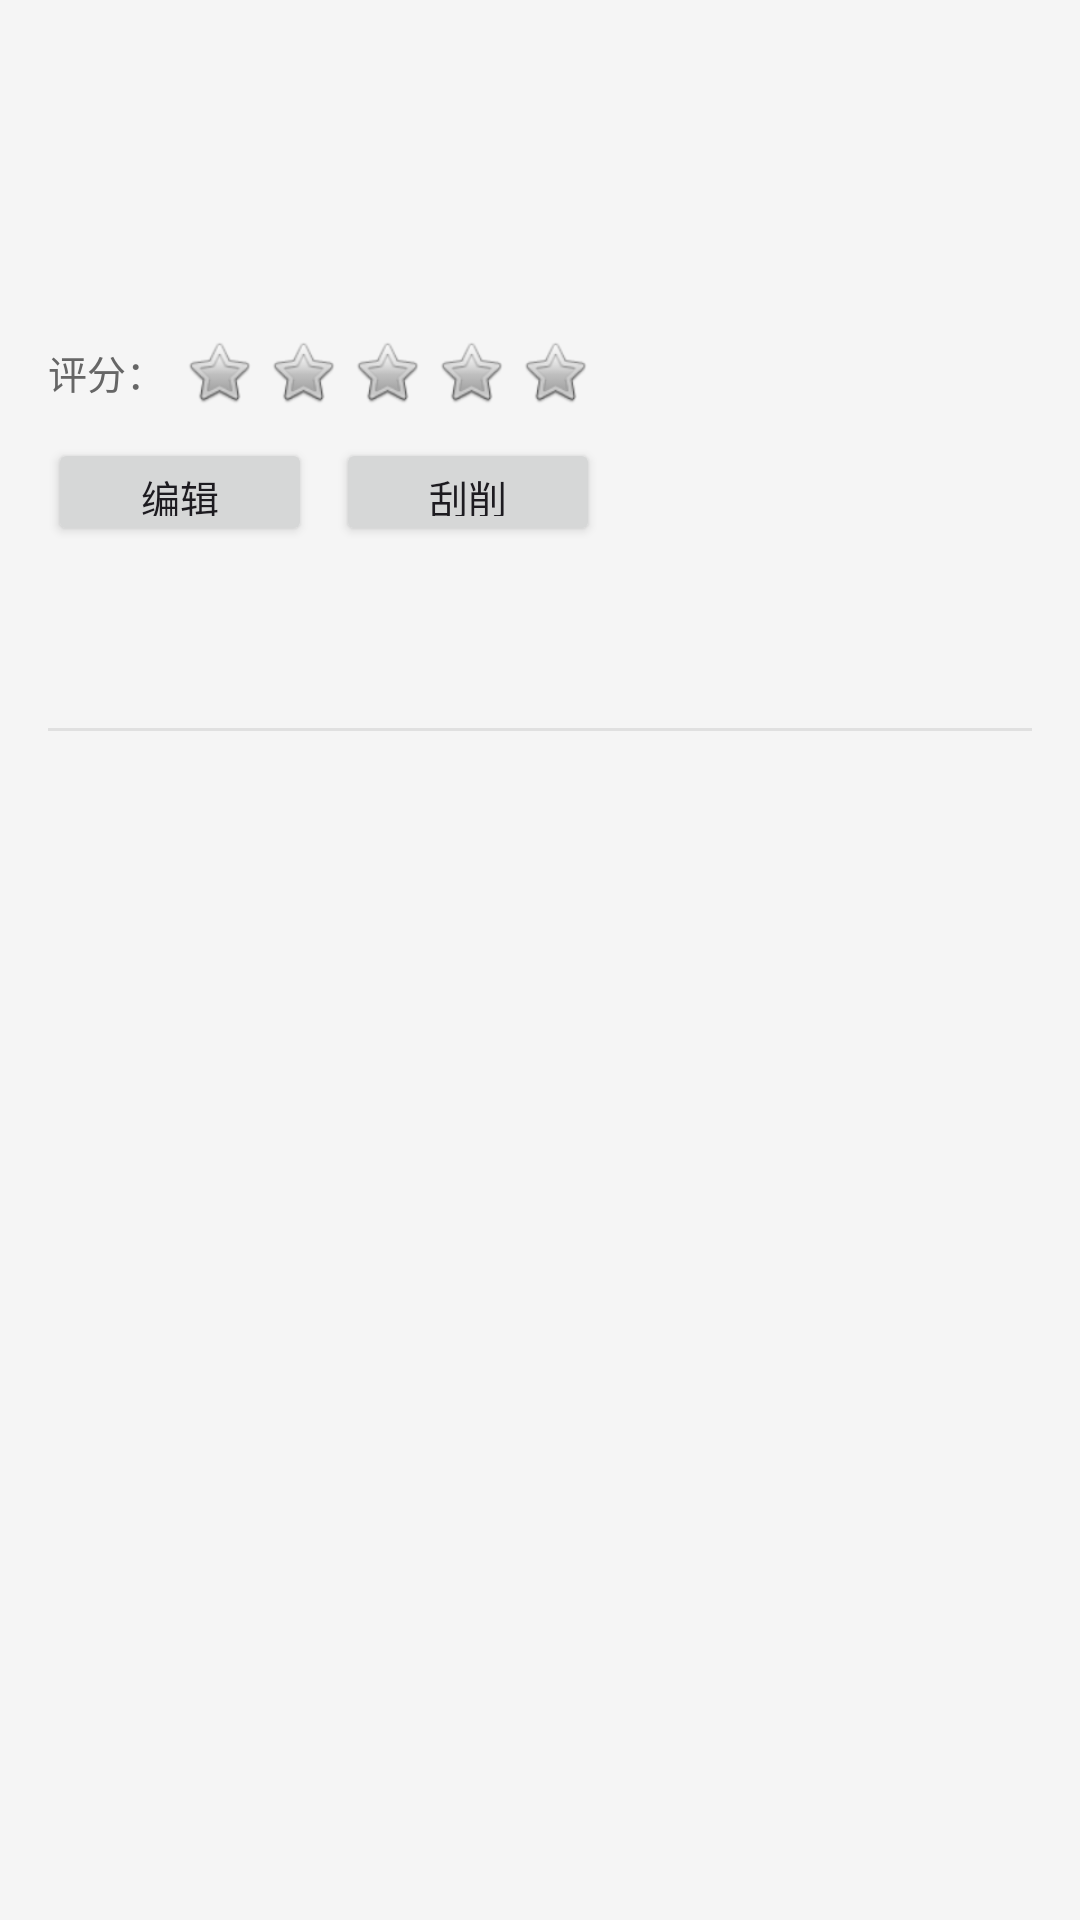

Named icons in this screenshot (1080 × 1920) and their bounding boxes, (x1, y1, x2, y2):
star off: (190, 343, 250, 402), (274, 343, 334, 402), (358, 343, 418, 402), (442, 343, 502, 402), (526, 343, 586, 402)
